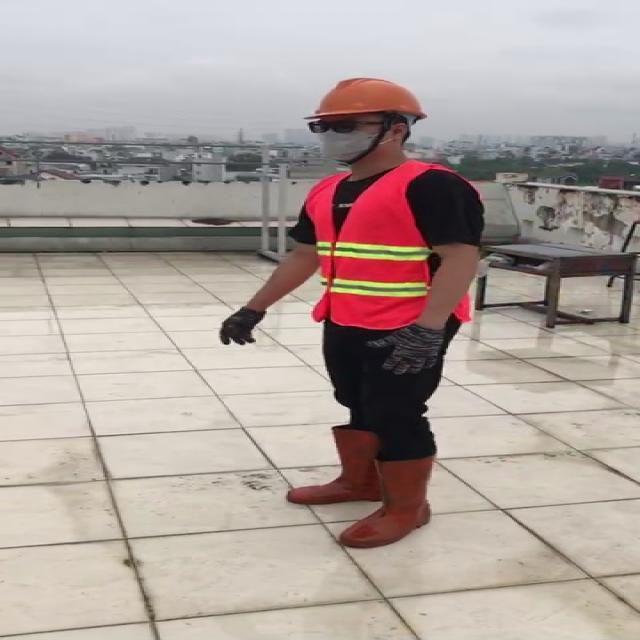boots: (338, 453, 428, 551), (286, 430, 381, 506)
gloves: (366, 328, 446, 374), (220, 308, 270, 345)
helmet: (308, 72, 428, 126)
vest: (302, 164, 475, 327)
